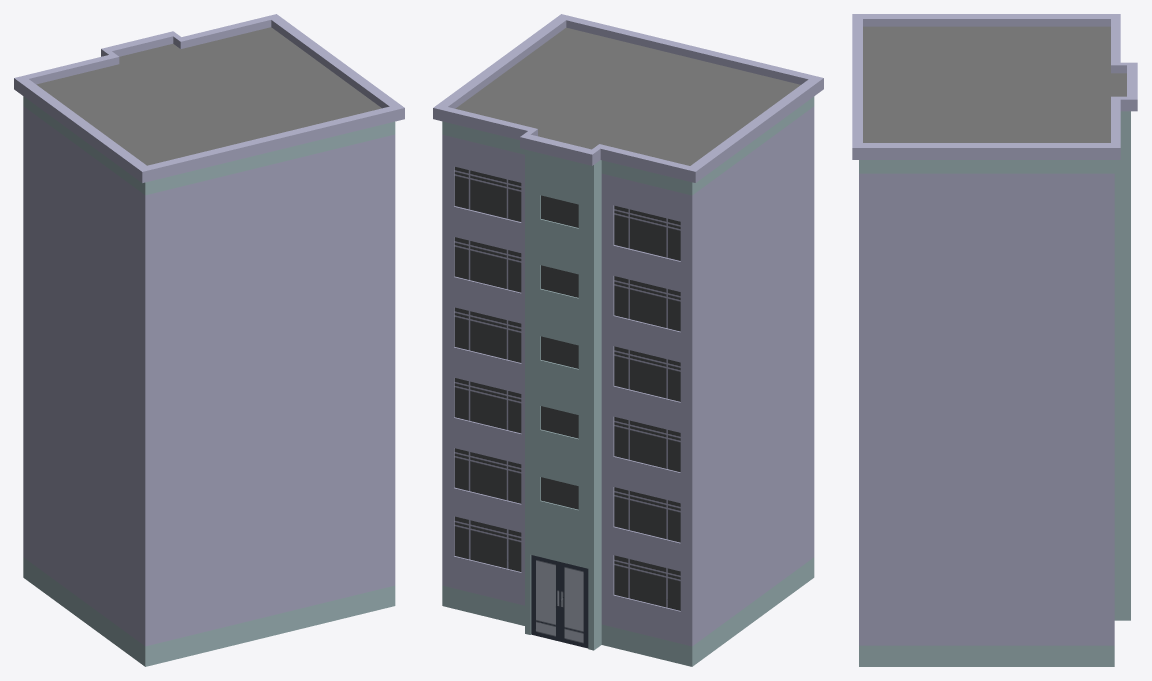
Rendered from Buliding_Violet.fbx.
3 renders of one model, left to right at view 1: azimuth 30°, elevation 25°; view 2: azimuth 150°, elevation 25°; view 3: azimuth 270°, elevation 25°, orthographic. The views are drawn at different scales.
Parts seen in each view (by area): view 1: Building__Violet; view 2: Building__Violet; view 3: Building__Violet.
Part boxes in pixels (x1,y1,x2,y2): Building__Violet: (14,14,404,666); Building__Violet: (433,14,823,666); Building__Violet: (852,14,1137,666).
Size of the model in its own units: 40.98 by 74.41 by 36.89.
Materials: 1 (1 with a texture image).
